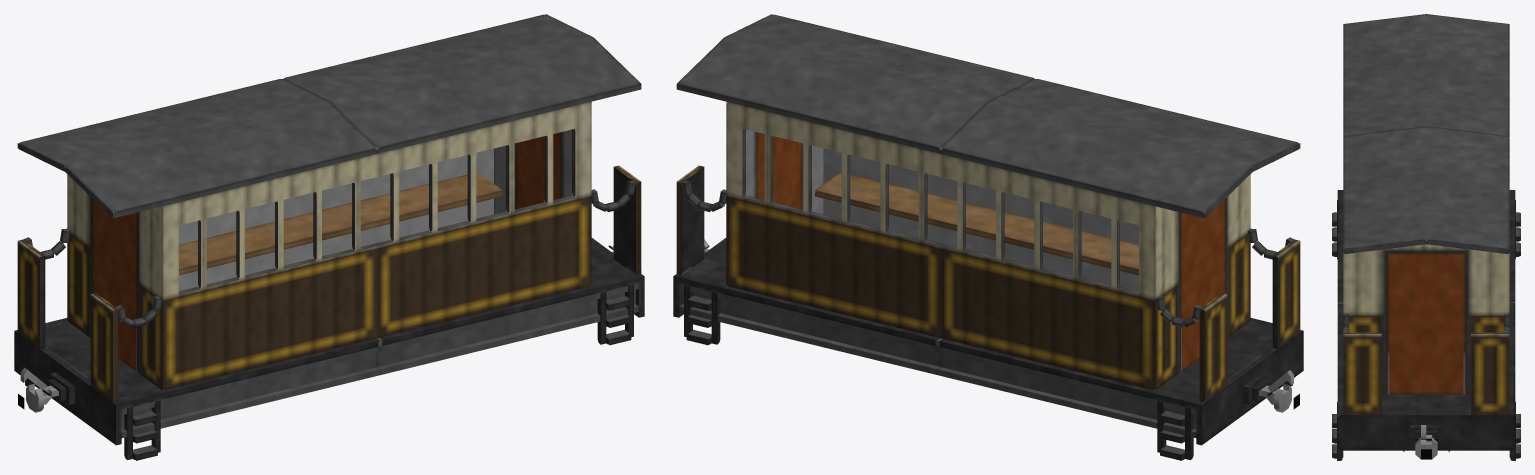
File: kitsune_stormpeak_coach.obj
The picture shows the model from 3 angles, left to right: view 1: azimuth 30°, elevation 25°; view 2: azimuth 150°, elevation 25°; view 3: azimuth 270°, elevation 25°; orthographic projection. The views are drawn at different scales.
Parts seen in each view (by area): view 1: SHELL_WOOD_roof_Cube.004, SHELL_WOOD.004_Cube.025, SHELL_WOOD.001_Cube.021, SHELL_WOOD.003_Cube.034, SHELL_WOOD_INTERIOR.001_Cube.017, FRAME_cab_Cube.056, FRAME.001_Cube.057, FRAME_Cube.068, SHELL_WOOD_INTERIOR_Cube.017, SHELL_WOOD_cab_roof_Cube.003, SHELL_WOOD_cab_roof.001_Cube.002, FRAME_cab.001_Cube.054 (+6 smaller); view 2: SHELL_WOOD_roof_Cube.004, SHELL_WOOD.004_Cube.025, SHELL_WOOD.001_Cube.021, SHELL_WOOD.003_Cube.034, SHELL_WOOD_INTERIOR.001_Cube.017, FRAME_cab_Cube.056, FRAME_Cube.068, FRAME.001_Cube.057, SHELL_WOOD_INTERIOR_Cube.017, SHELL_WOOD_cab_roof_Cube.003, SHELL_WOOD_cab_roof.001_Cube.002, FRAME_cab.001_Cube.054 (+6 smaller); view 3: SHELL_WOOD_roof_Cube.004, SHELL_WOOD.002_Cube.026, FRAME_cab.001_Cube.054, DOOR_1_Cube.033, DOOR_2_Cube.035, SHELL_WOOD_cab_roof.001_Cube.002, SHELL_WOOD_cab_roof_Cube.003, FRAME_Cube.068, FRAME.001_Cube.057, COUPLER_ENGAGED_REAR_2_TOGGLE_LABEL_Uncouple_Cube, FRAME_cab_Cube.056.
Boxes of the visible parts, x1=… form: SHELL_WOOD_roof_Cube.004: x1=70, y1=26, x2=588, y2=205; SHELL_WOOD.004_Cube.025: x1=374, y1=102, x2=588, y2=338; SHELL_WOOD.001_Cube.021: x1=165, y1=154, x2=376, y2=389; SHELL_WOOD.003_Cube.034: x1=17, y1=174, x2=165, y2=402; SHELL_WOOD_INTERIOR.001_Cube.017: x1=285, y1=129, x2=575, y2=265; FRAME_cab_Cube.056: x1=14, y1=318, x2=168, y2=460; FRAME.001_Cube.057: x1=377, y1=286, x2=592, y2=374; FRAME_Cube.068: x1=165, y1=338, x2=380, y2=426; SHELL_WOOD_INTERIOR_Cube.017: x1=162, y1=182, x2=354, y2=291; SHELL_WOOD_cab_roof_Cube.003: x1=17, y1=130, x2=165, y2=218; SHELL_WOOD_cab_roof.001_Cube.002: x1=494, y1=14, x2=641, y2=102; FRAME_cab.001_Cube.054: x1=589, y1=238, x2=644, y2=345; SHELL_WOOD_roof_Cube.004: x1=729, y1=26, x2=1247, y2=205; SHELL_WOOD.004_Cube.025: x1=729, y1=102, x2=943, y2=338; SHELL_WOOD.001_Cube.021: x1=941, y1=154, x2=1152, y2=389; SHELL_WOOD.003_Cube.034: x1=1152, y1=174, x2=1300, y2=402; SHELL_WOOD_INTERIOR.001_Cube.017: x1=742, y1=129, x2=1032, y2=265; FRAME_cab_Cube.056: x1=1149, y1=318, x2=1303, y2=460; FRAME_Cube.068: x1=937, y1=338, x2=1152, y2=426; FRAME.001_Cube.057: x1=725, y1=286, x2=940, y2=374; SHELL_WOOD_INTERIOR_Cube.017: x1=963, y1=182, x2=1155, y2=291; SHELL_WOOD_cab_roof_Cube.003: x1=1152, y1=130, x2=1300, y2=218; SHELL_WOOD_cab_roof.001_Cube.002: x1=676, y1=14, x2=823, y2=102; FRAME_cab.001_Cube.054: x1=673, y1=238, x2=728, y2=345; SHELL_WOOD_roof_Cube.004: x1=1343, y1=36, x2=1509, y2=226; SHELL_WOOD.002_Cube.026: x1=1343, y1=244, x2=1509, y2=415; FRAME_cab.001_Cube.054: x1=1332, y1=393, x2=1520, y2=460; DOOR_1_Cube.033: x1=1426, y1=253, x2=1465, y2=394; DOOR_2_Cube.035: x1=1387, y1=253, x2=1426, y2=394; SHELL_WOOD_cab_roof.001_Cube.002: x1=1343, y1=217, x2=1509, y2=253; SHELL_WOOD_cab_roof_Cube.003: x1=1343, y1=14, x2=1509, y2=46; FRAME_Cube.068: x1=1337, y1=212, x2=1515, y2=303; FRAME.001_Cube.057: x1=1337, y1=302, x2=1515, y2=392; COUPLER_ENGAGED_REAR_2_TOGGLE_LABEL_Uncouple_Cube: x1=1410, y1=425, x2=1442, y2=459; FRAME_cab_Cube.056: x1=1332, y1=190, x2=1520, y2=259.
Bounding box in the file's own units: 7 × 2.94 × 2.13.
5 materials, 5 textured.
